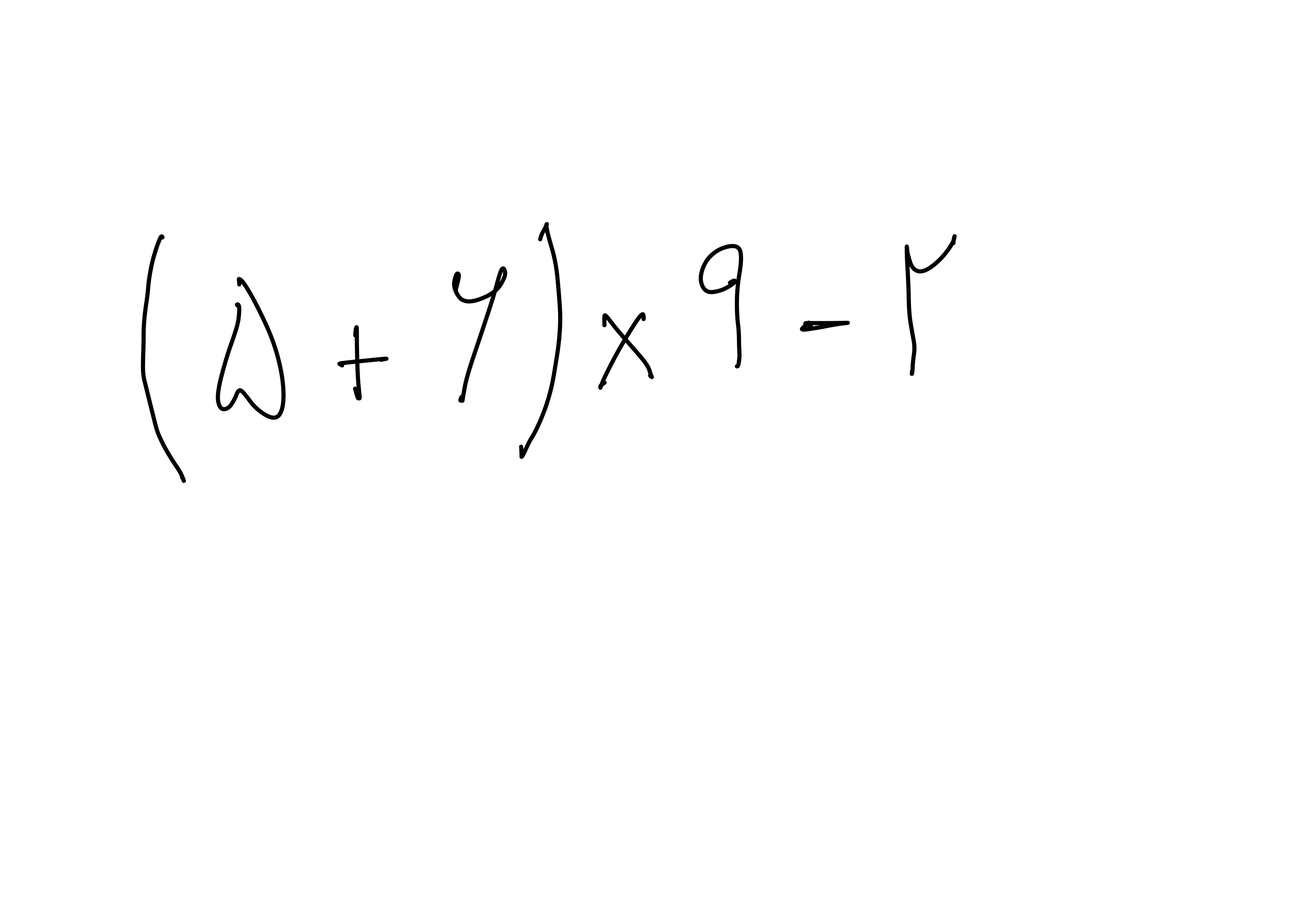character: (138, 233, 188, 490), (517, 217, 565, 462), (213, 273, 289, 421), (449, 265, 507, 403), (904, 233, 958, 377), (696, 241, 744, 369), (594, 311, 656, 393), (329, 327, 389, 403), (800, 317, 852, 335)
